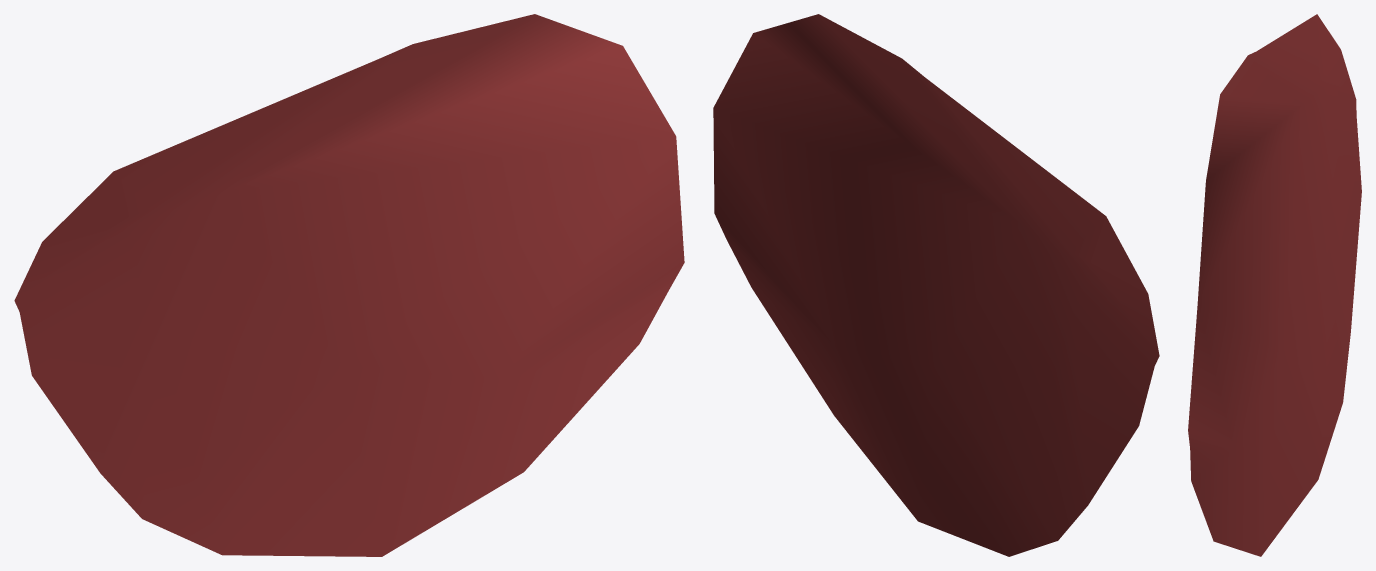
File: longissimus-thoracis-muscle-e12r.glb
3 views of the same model, side by side, from view 1: azimuth 30°, elevation 25°; view 2: azimuth 150°, elevation 25°; view 3: azimuth 270°, elevation 25° (orthographic). The views are drawn at different scales.
Visible parts, largest first — view 1: Longissimus thoracis muscle.e12r; view 2: Longissimus thoracis muscle.e12r; view 3: Longissimus thoracis muscle.e12r.
Part boxes in pixels (x1=…): Longissimus thoracis muscle.e12r: x1=14, y1=14, x2=684, y2=556; Longissimus thoracis muscle.e12r: x1=713, y1=14, x2=1159, y2=556; Longissimus thoracis muscle.e12r: x1=1188, y1=14, x2=1361, y2=556.
Size of the model in its own units: 0.00641 by 0.00549 by 0.00164.
